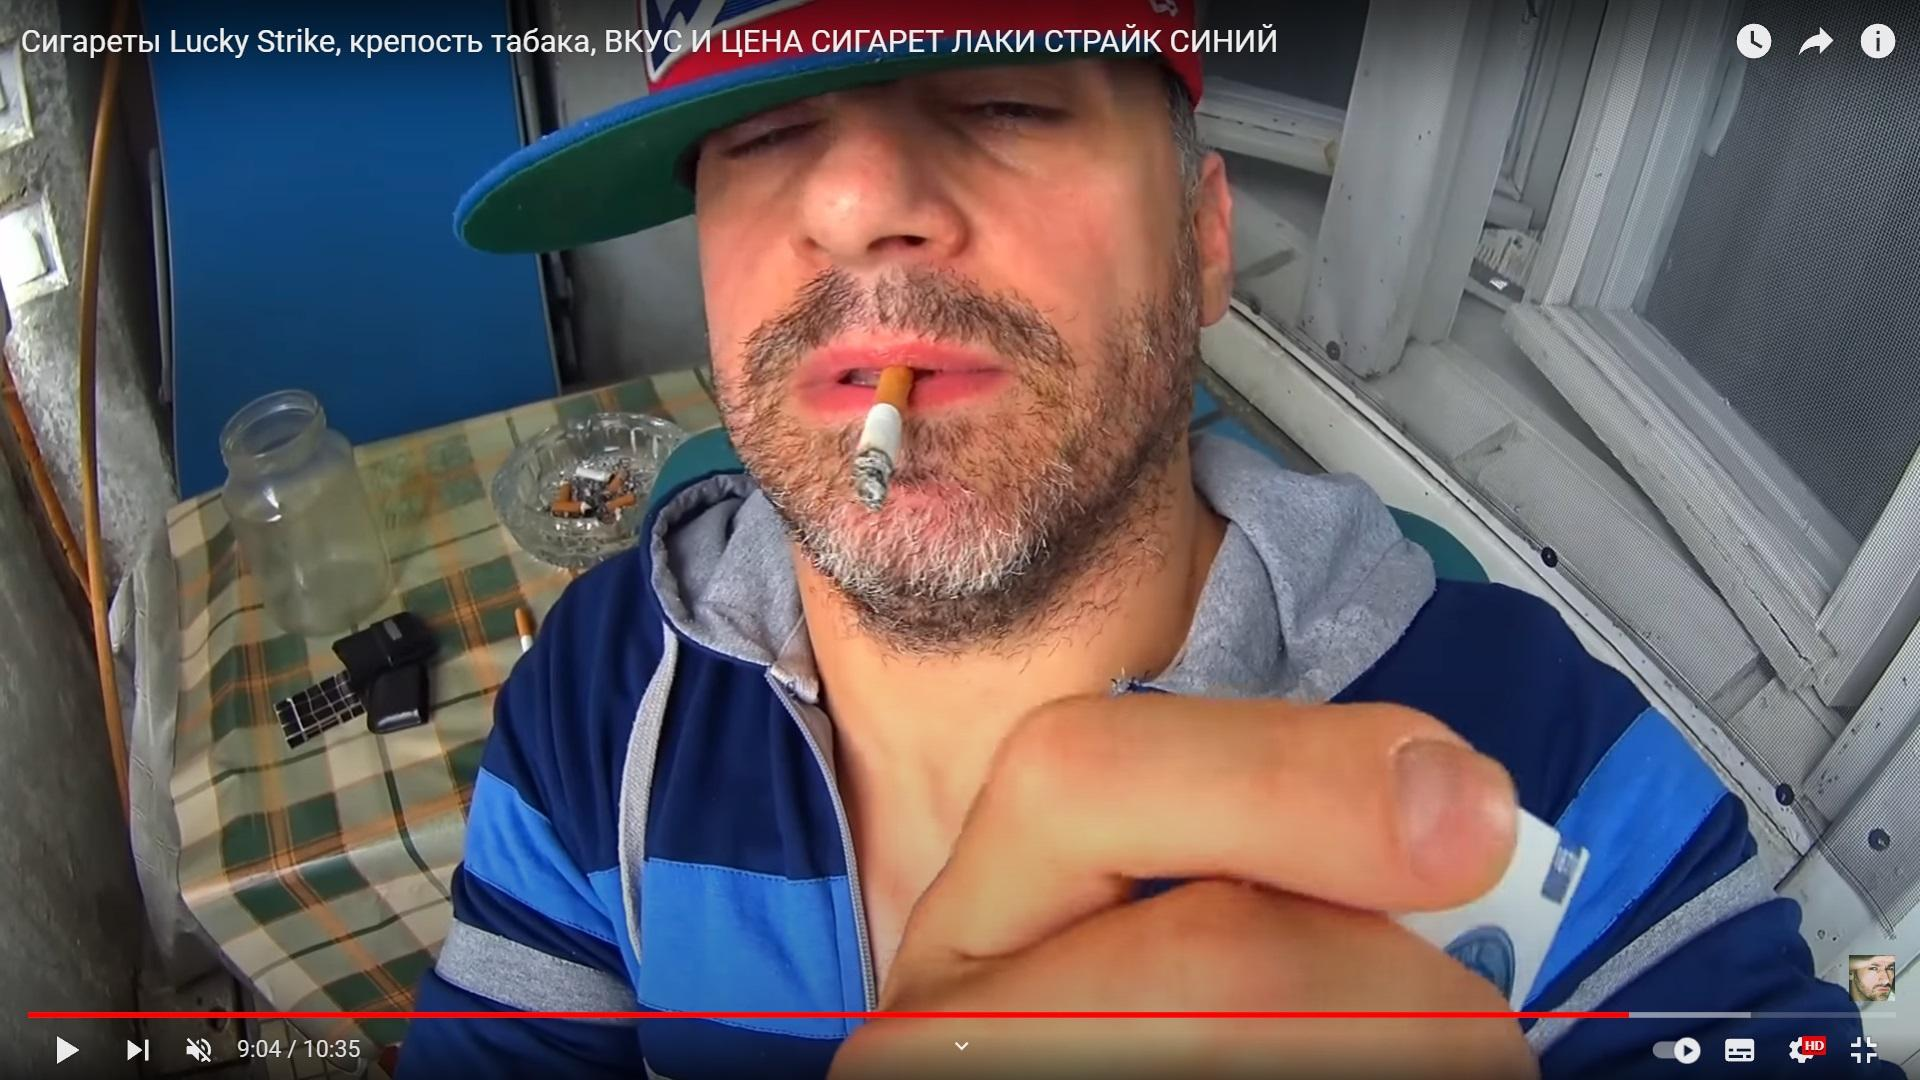cigarette: (855, 365, 916, 513)
